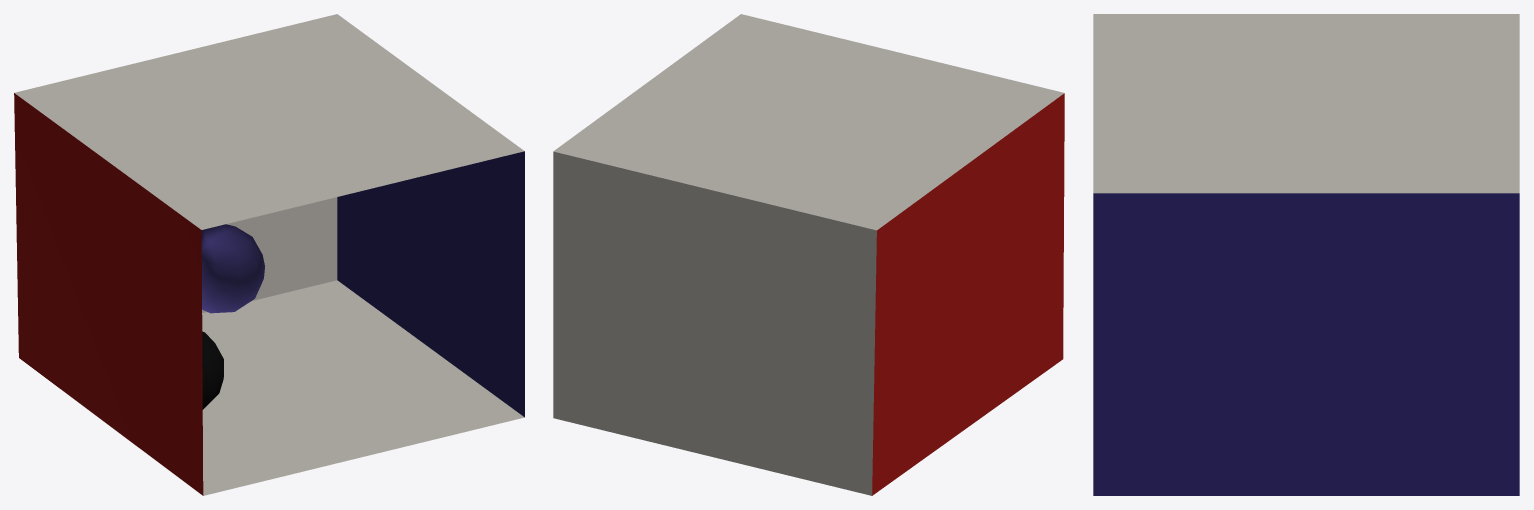
File: CornellBox-Sphere-271.obj
3 views of the same model, side by side, from view 1: azimuth 30°, elevation 25°; view 2: azimuth 150°, elevation 25°; view 3: azimuth 270°, elevation 25° (orthographic). The views are drawn at different scales.
Visible parts, largest first — view 1: ceiling, leftWall, floor, rightWall, backWall, leftSphere, rightSphere; view 2: backWall, ceiling, leftWall; view 3: rightWall, ceiling.
Part boxes in pixels (<box>): ceiling: <box>14,14,524,229</box>; leftWall: <box>14,93,203,495</box>; floor: <box>202,280,524,495</box>; rightWall: <box>337,151,524,417</box>; backWall: <box>202,197,337,312</box>; leftSphere: <box>201,224,264,313</box>; rightSphere: <box>202,331,223,409</box>; backWall: <box>553,151,876,495</box>; ceiling: <box>553,14,1064,230</box>; leftWall: <box>872,93,1064,495</box>; rightWall: <box>1093,193,1519,495</box>; ceiling: <box>1093,14,1519,193</box>.
Size of the model in its own units: 2.02 by 1.59 by 2.03.
